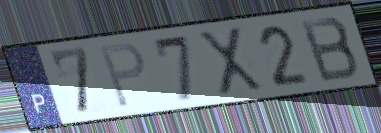2: (257, 24, 312, 90)
7: (46, 44, 93, 117), (150, 35, 196, 103)
B: (296, 14, 363, 86)
P: (97, 40, 148, 111)
X: (194, 24, 267, 99)
